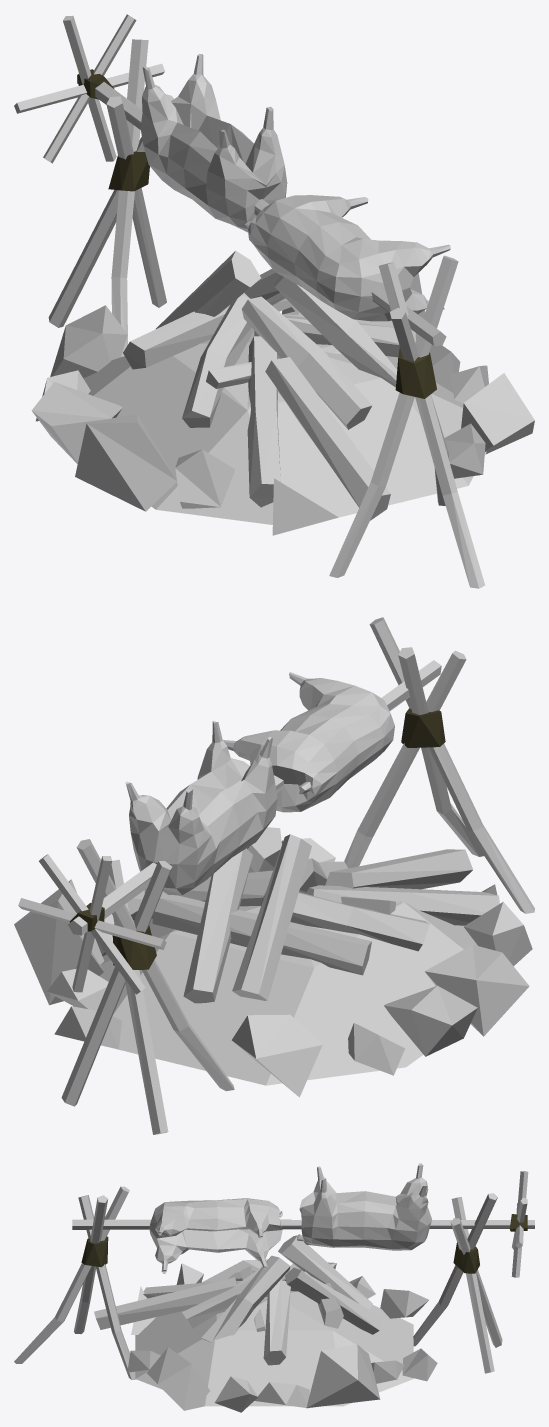
The model's file is BARBQ_NW_MISC_SHEEP_01.OBJ.
3 views of the same model, one above another, from view 1: azimuth 30°, elevation 25°; view 2: azimuth 150°, elevation 25°; view 3: azimuth 270°, elevation 25° (orthographic). The views are drawn at different scales.
Visible parts, largest first — view 1: BARBQ_NW_MISC_SHEEP_01; view 2: BARBQ_NW_MISC_SHEEP_01; view 3: BARBQ_NW_MISC_SHEEP_01.
Boxes of the visible parts, x1,y1,x2,y2 form: BARBQ_NW_MISC_SHEEP_01: (14, 14, 534, 588); BARBQ_NW_MISC_SHEEP_01: (14, 617, 534, 1134); BARBQ_NW_MISC_SHEEP_01: (14, 1163, 534, 1412).
Size of the model in its own units: 2.36 by 1.62 by 3.96.
